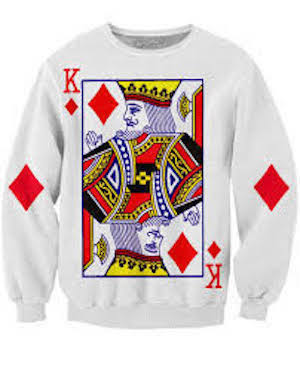KingOfDiamonds: (56, 62, 229, 296)
